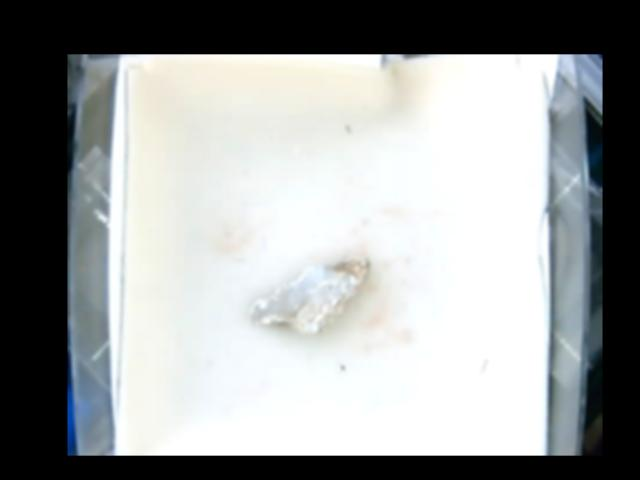Brisk: (248, 254, 368, 335)
